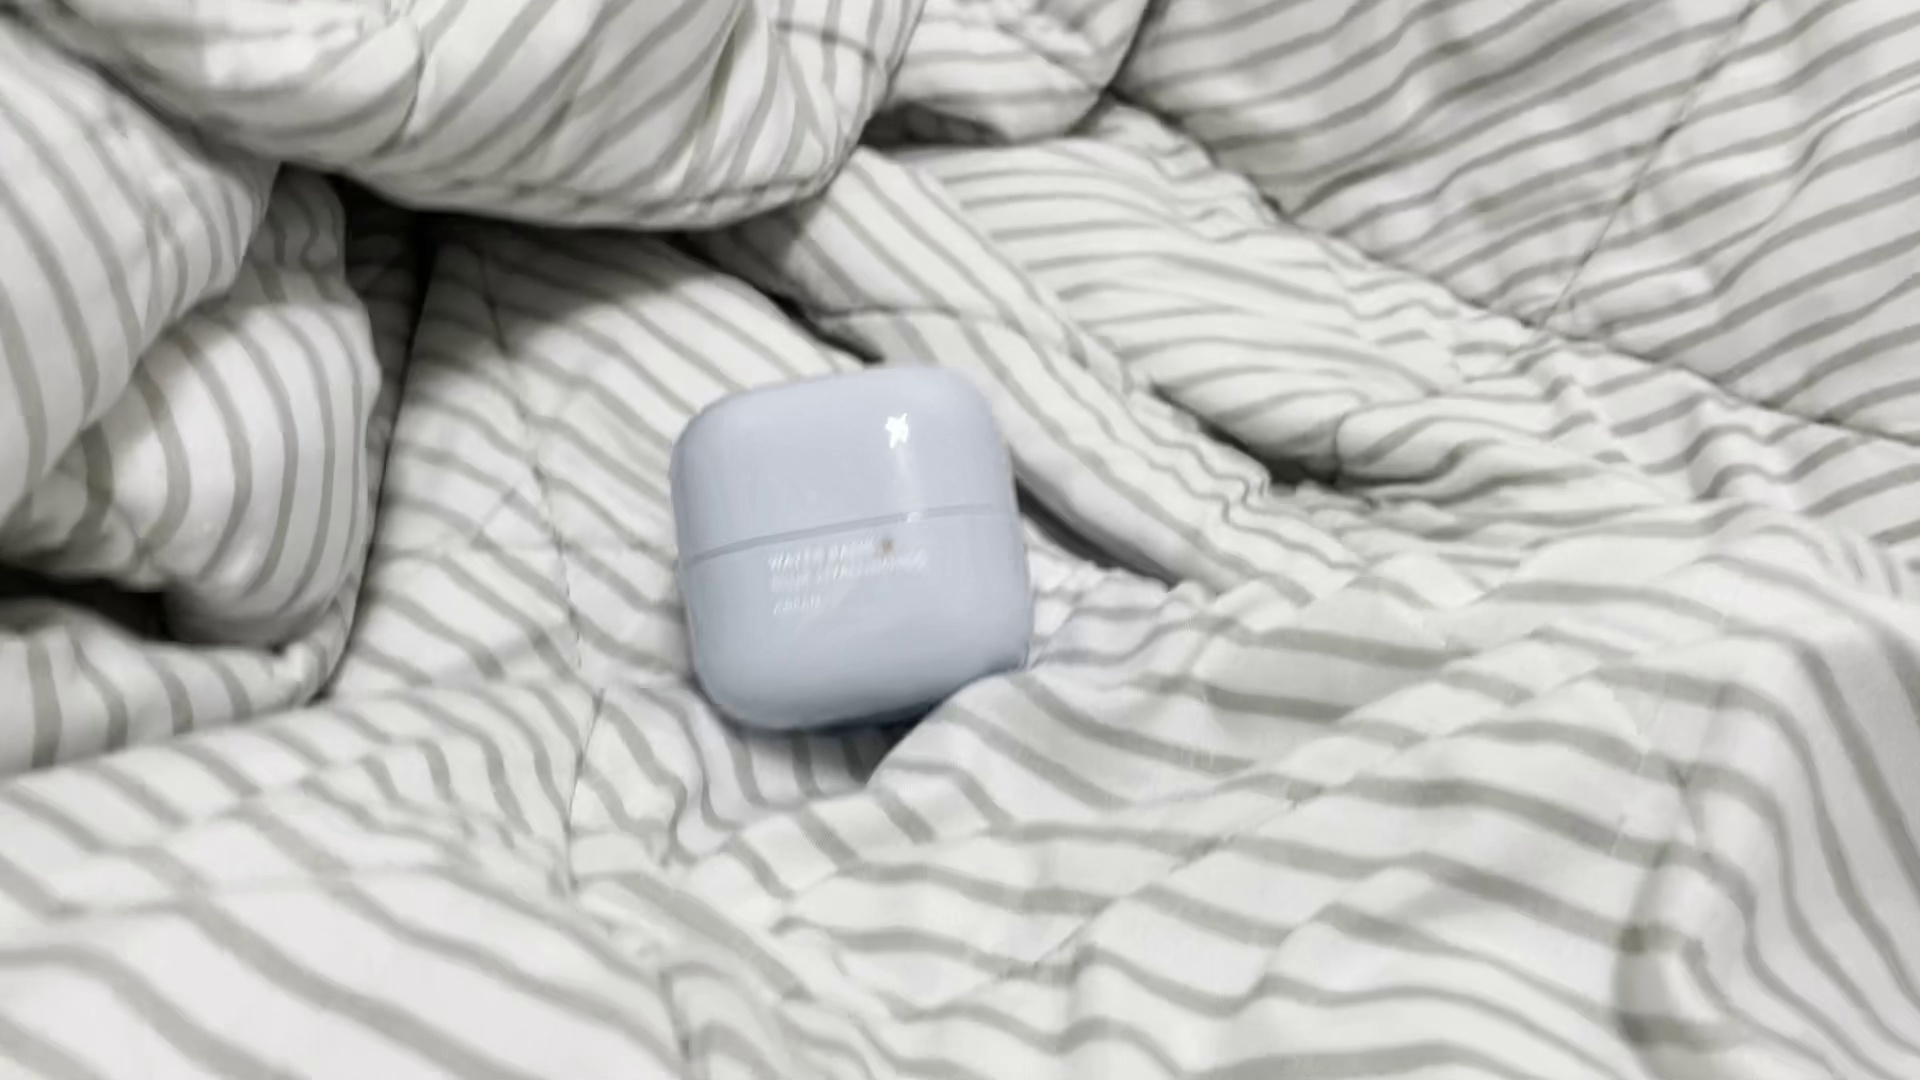cream: (673, 367, 1034, 741)
